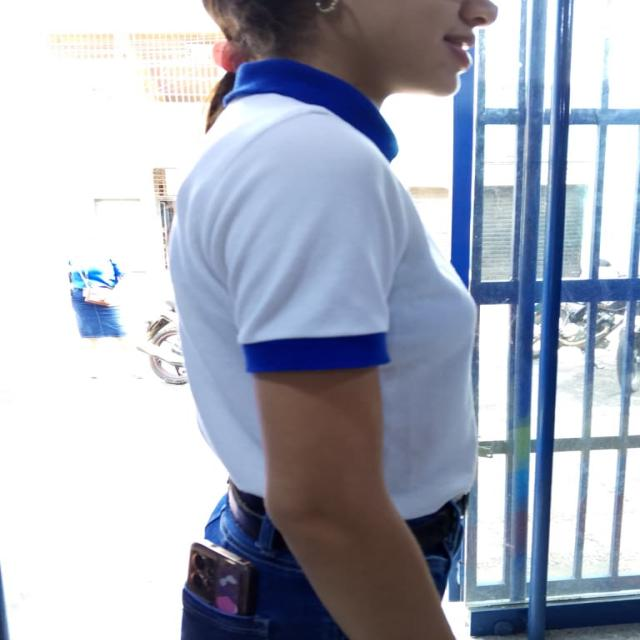uniforme_superior: (165, 59, 480, 523)
